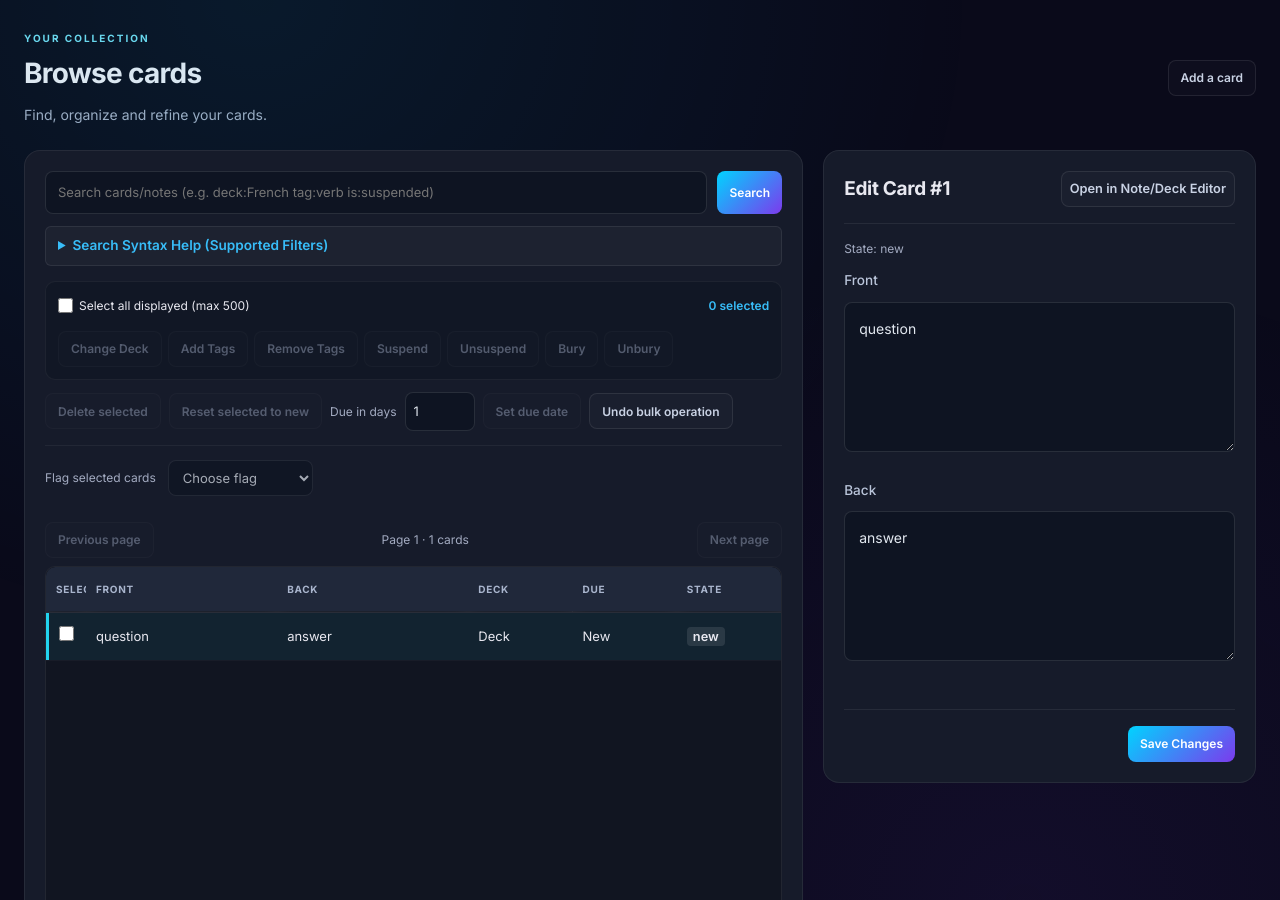
Test case: Browser safety › clears the editor after an invalid query and renders structured422 errors safely
Expected: the text box labelled "Front" is shown, [844,302,1235,452]
Type "invalid:" into the field named "Search cards query" at (376, 193), box [45,171,707,214]
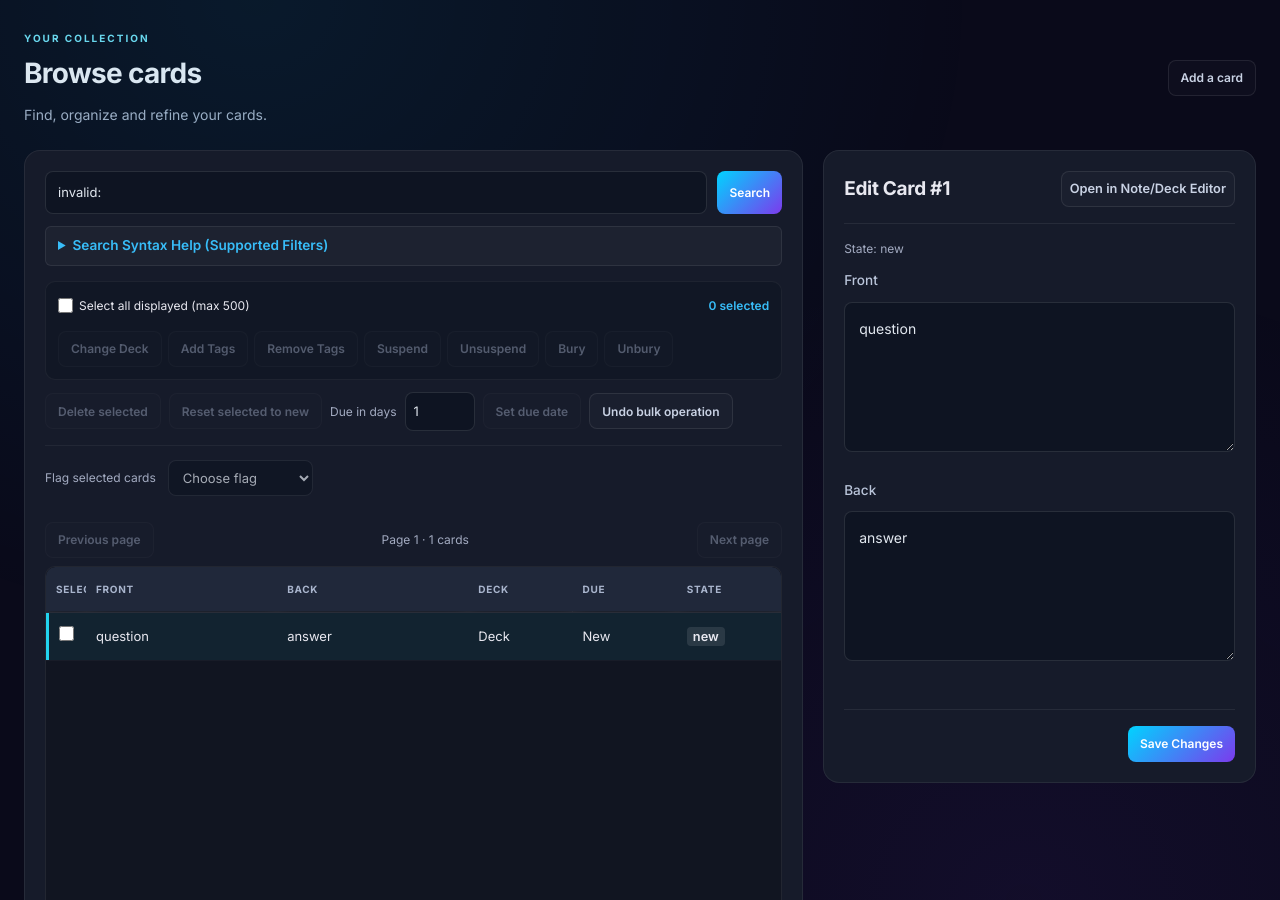
Click the button "Search" at (750, 193), box [717,171,782,214]
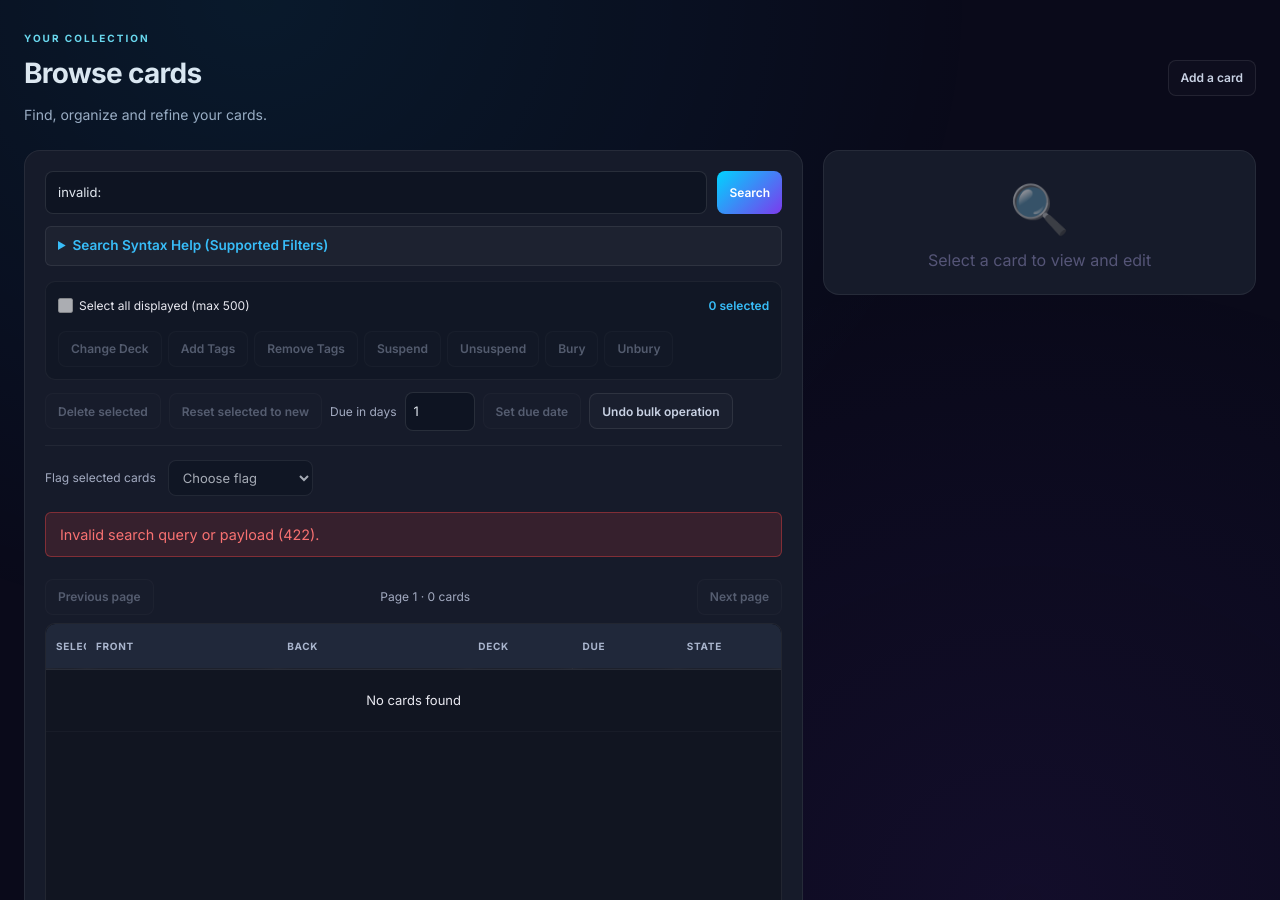
Expected: the message shows "Invalid search", [60,526,320,543]
Expected: the button "Save Changes" is gone
